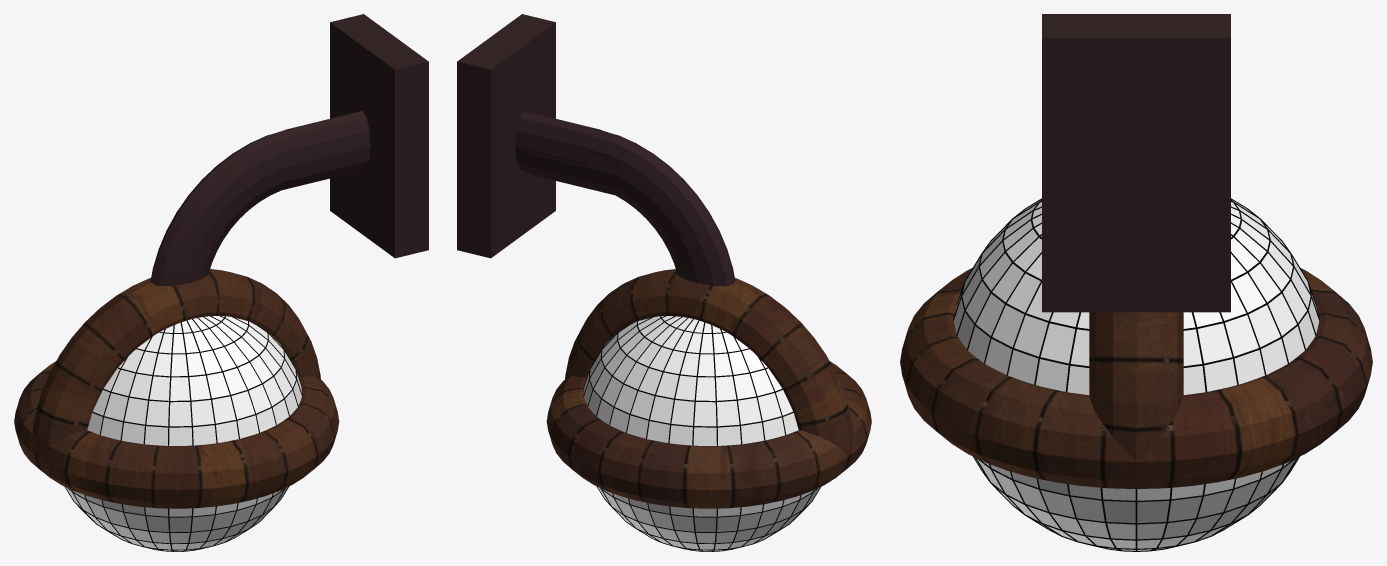
Rendered from discoball.fbx.
The picture shows the model from 3 angles, left to right: view 1: azimuth 30°, elevation 25°; view 2: azimuth 150°, elevation 25°; view 3: azimuth 270°, elevation 25°; orthographic projection. The views are drawn at different scales.
Parts seen in each view (by area): view 1: Sphere, Torus, Cube, Torus.001, Torus.002; view 2: Sphere, Torus, Cube, Torus.001, Torus.002; view 3: Cube, Sphere, Torus, Torus.001.
Part boxes in pixels (bbox=[...]): Sphere: bbox=[64, 315, 302, 551]; Torus: bbox=[14, 361, 339, 508]; Cube: bbox=[330, 14, 428, 258]; Torus.001: bbox=[32, 269, 320, 455]; Torus.002: bbox=[150, 111, 370, 286]; Sphere: bbox=[583, 315, 821, 551]; Torus: bbox=[546, 361, 871, 508]; Cube: bbox=[457, 14, 555, 258]; Torus.001: bbox=[565, 269, 853, 455]; Torus.002: bbox=[515, 111, 735, 286]; Cube: bbox=[1042, 14, 1230, 312]; Sphere: bbox=[953, 198, 1319, 551]; Torus: bbox=[900, 268, 1372, 488]; Torus.001: bbox=[1089, 312, 1183, 461].
Bounding box in the file's own units: 320 × 381 × 250.
Materials: 5 (2 with a texture image).
